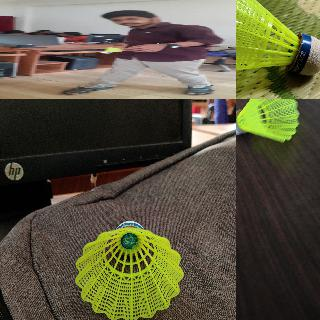shuttlecock: (75, 222, 187, 320), (236, 0, 319, 79), (236, 99, 300, 144), (101, 47, 127, 53)
